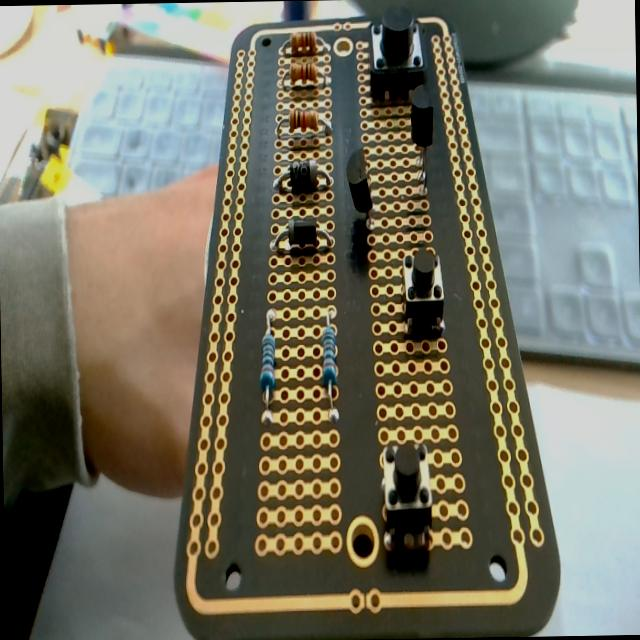diode: (270, 219, 336, 256), (272, 158, 332, 194)
resistor: (258, 304, 279, 422), (320, 306, 340, 420), (281, 30, 327, 56), (275, 105, 329, 126), (282, 63, 324, 90)
switch: (380, 438, 435, 553), (368, 7, 425, 101), (398, 247, 444, 339)
transistor: (410, 89, 434, 190), (344, 146, 372, 214)
